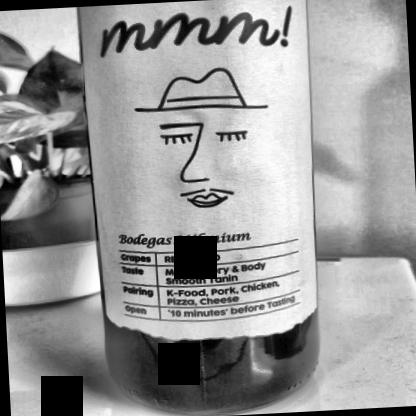umm: (81, 0, 324, 354)
